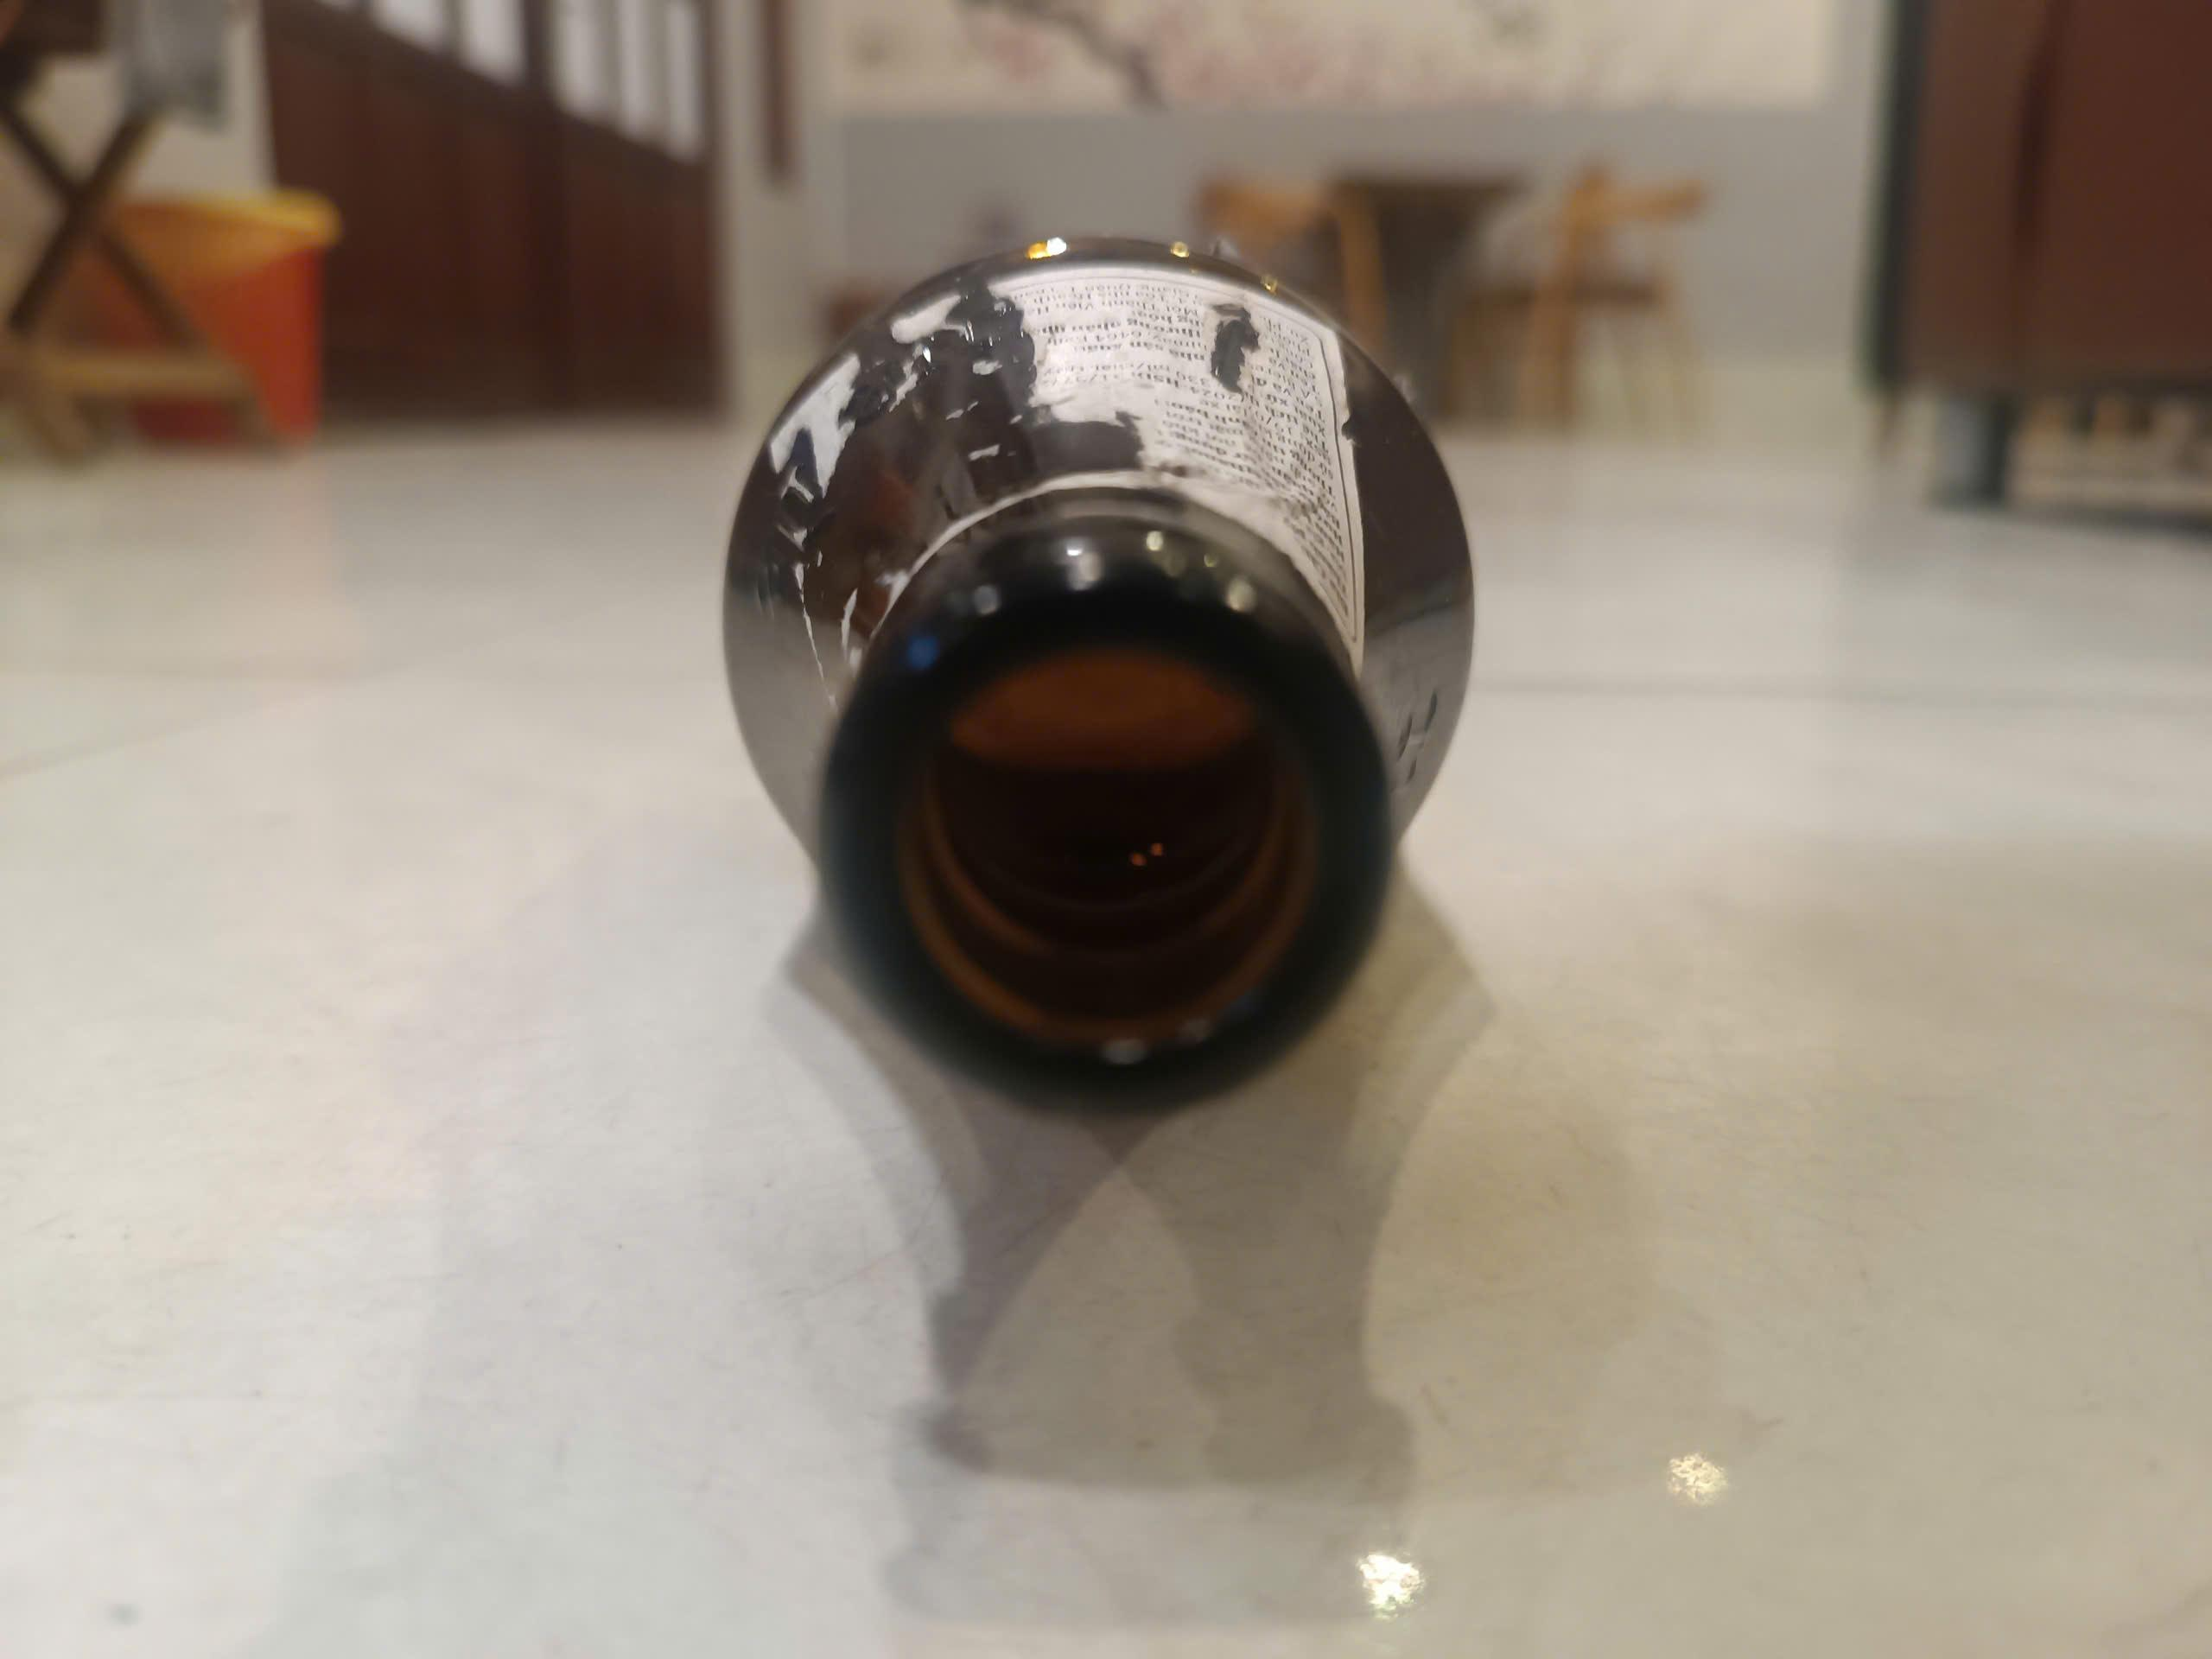Vo co: (723, 237, 1470, 1117)
